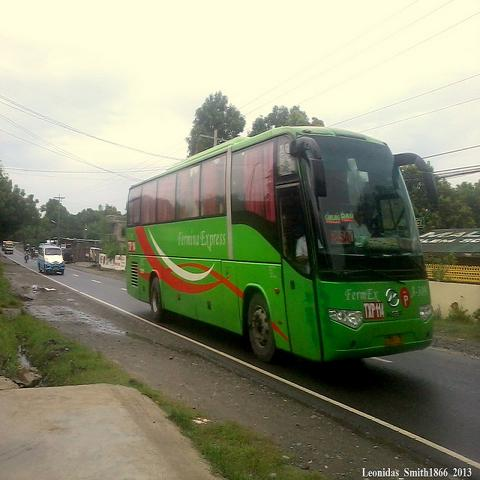bus: (123, 126, 440, 362)
car: (62, 249, 74, 262)
motorcycle: (24, 253, 30, 263)
truck: (37, 243, 66, 275), (5, 241, 13, 254)
